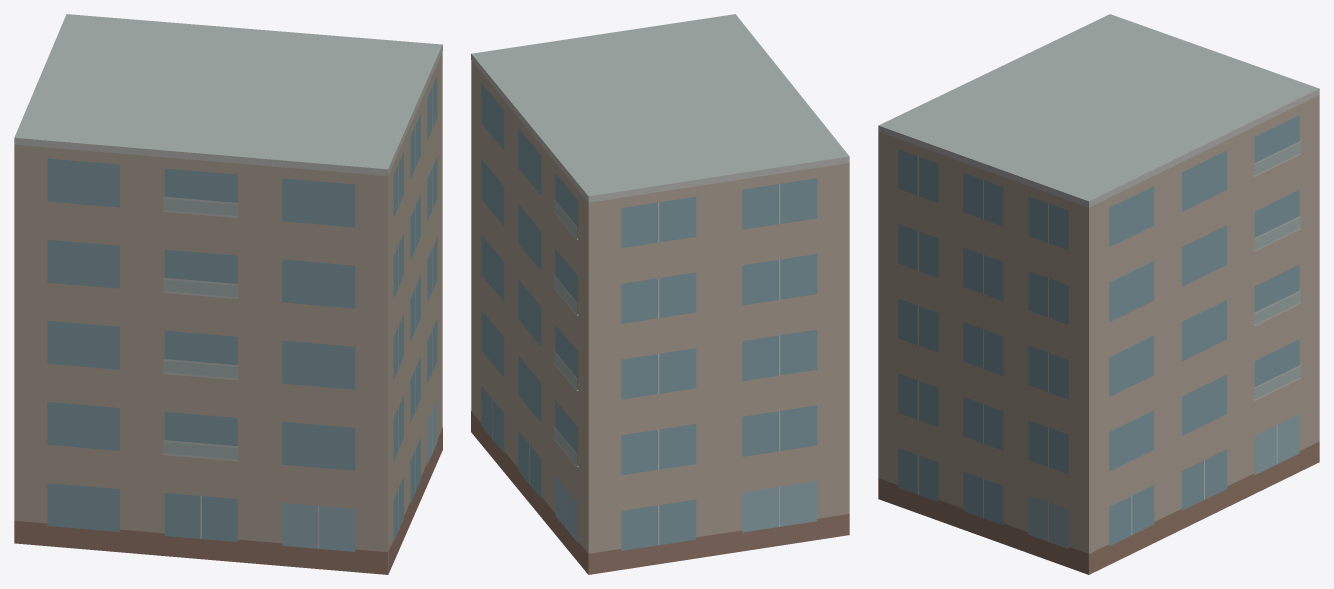
The model's file is survey-upis-33015032.glb.
3 views of the same model, side by side, from view 1: azimuth 30°, elevation 25°; view 2: azimuth 150°, elevation 25°; view 3: azimuth 270°, elevation 25° (orthographic). The views are drawn at different scales.
Visible parts, largest first — view 1: survey-upis-33015032.tmp; view 2: survey-upis-33015032.tmp; view 3: survey-upis-33015032.tmp.
Part boxes in pixels (x1,y1,x2,y2): survey-upis-33015032.tmp: (14,14,442,574); survey-upis-33015032.tmp: (471,14,849,574); survey-upis-33015032.tmp: (878,14,1319,574).
Size of the model in its own units: 15.61 by 14.5 by 15.53.
